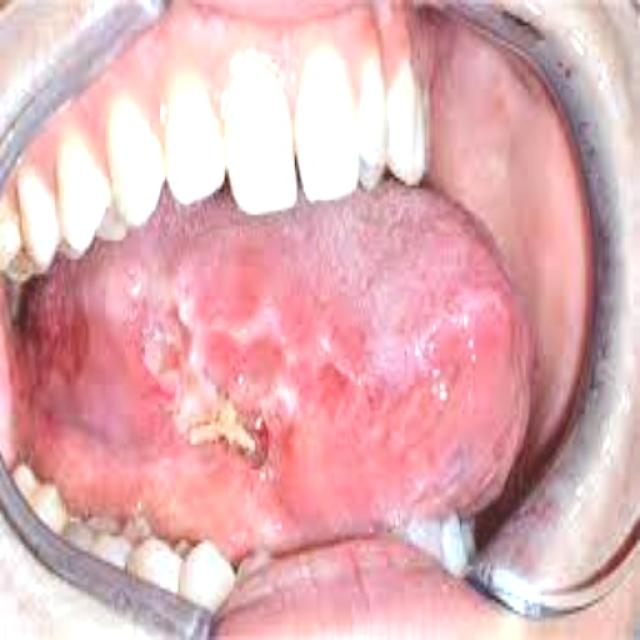cancer-detection: (18, 257, 505, 475)
processing_area: (6, 14, 589, 639)
